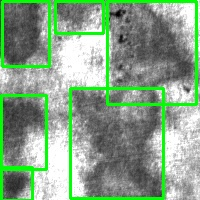patches: (70, 88, 163, 198), (107, 1, 196, 104), (1, 95, 46, 169), (2, 1, 49, 66), (55, 1, 103, 33), (1, 167, 32, 200)
